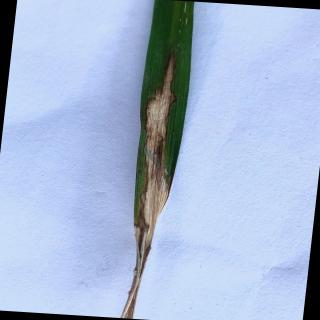Hawar-Daun: (119, 53, 178, 319)
